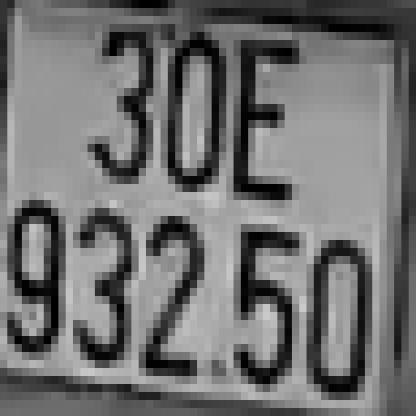0: (299, 232, 365, 392), (161, 32, 219, 192)
2: (146, 208, 204, 368)
3: (88, 32, 160, 184), (73, 208, 139, 360)
5: (226, 216, 292, 384)
9: (7, 200, 66, 352)
E: (226, 32, 292, 208)
